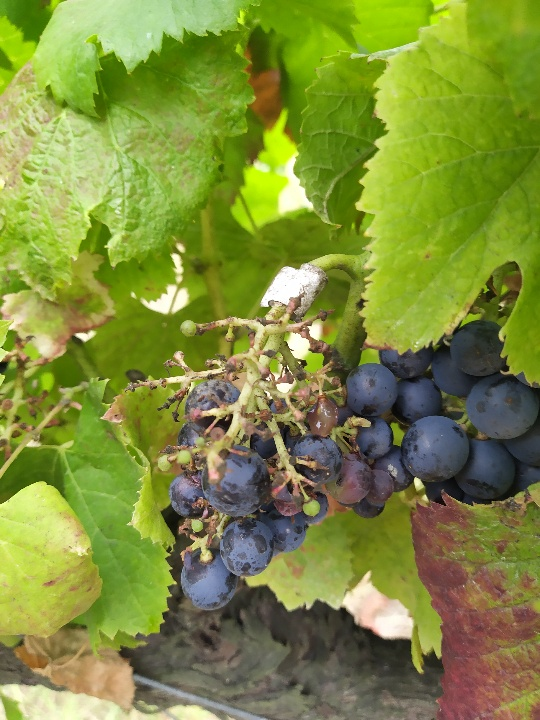grape: (125, 304, 394, 615)
